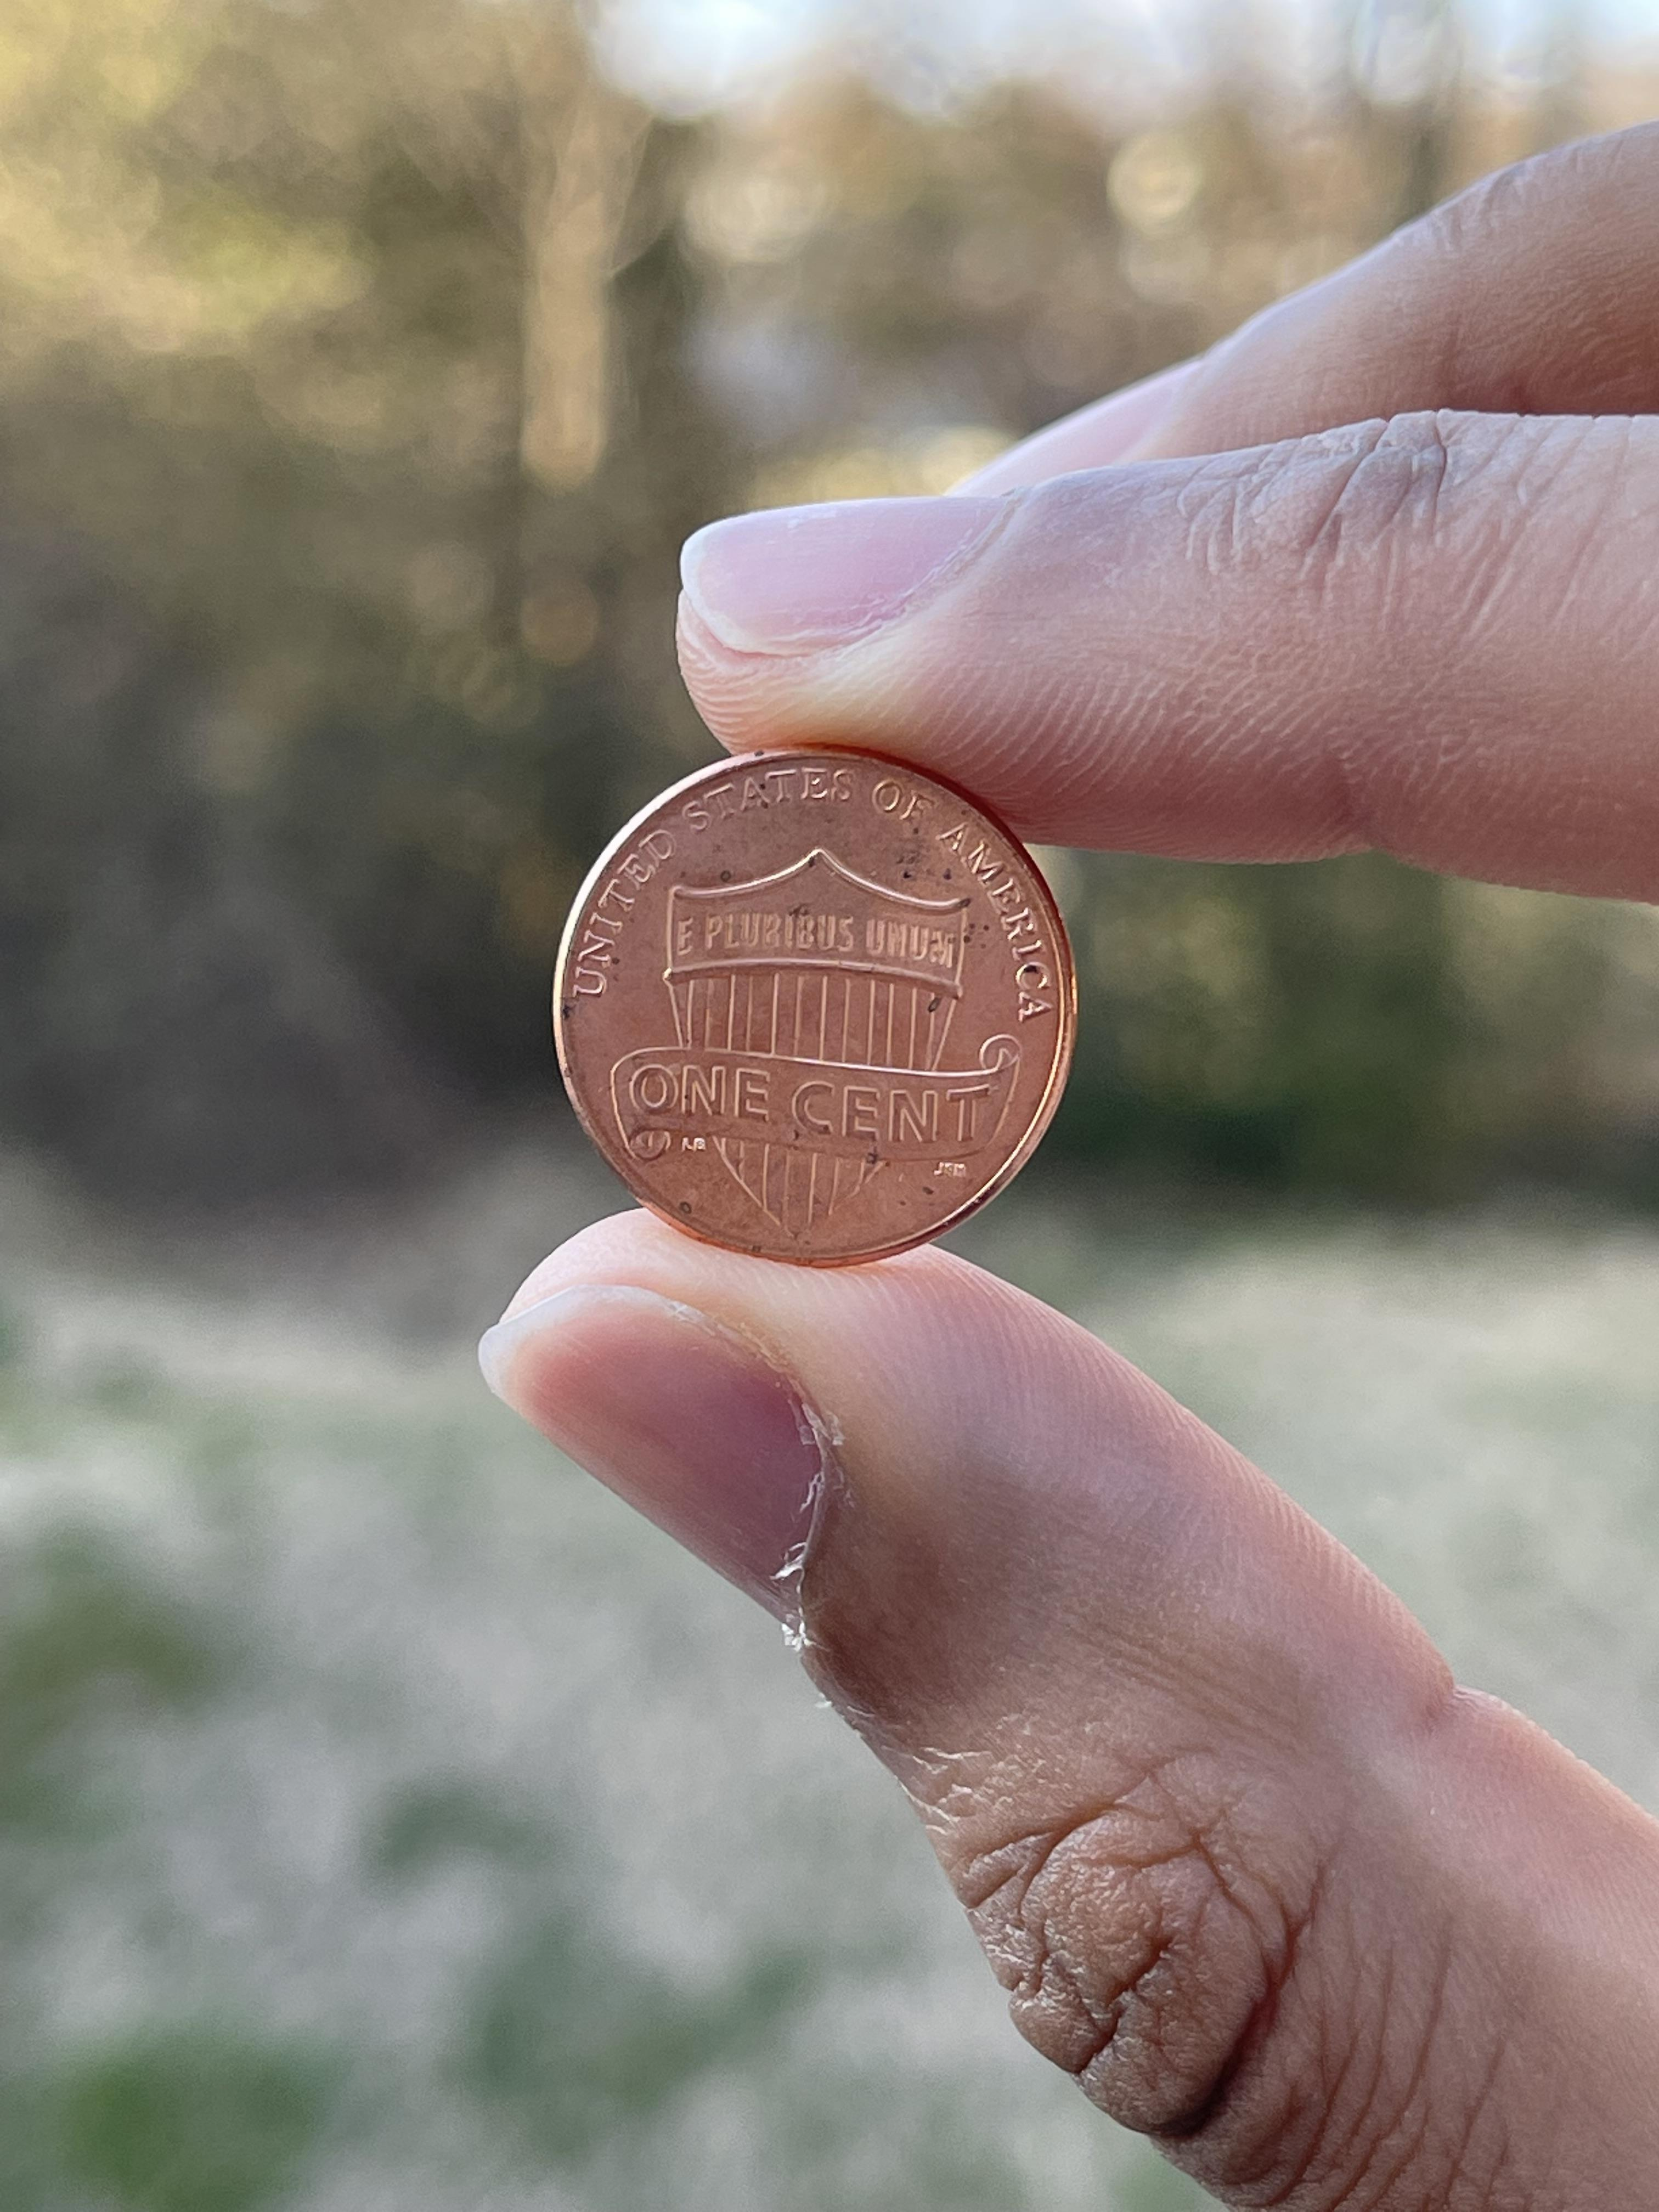Penny: (547, 747, 1080, 1271)
